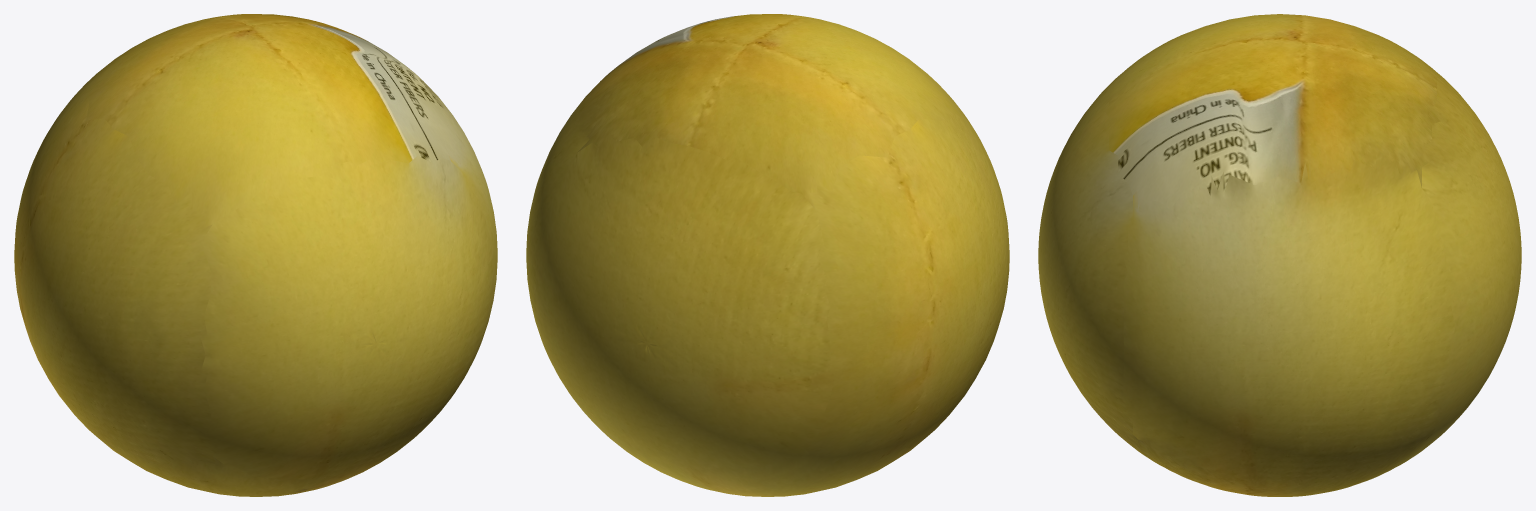
Rendered from kyjen_squeakin_eggs_plush_puppies.obj.
3 renders of one model, left to right at view 1: azimuth 30°, elevation 25°; view 2: azimuth 150°, elevation 25°; view 3: azimuth 270°, elevation 25°, orthographic.
Bounding box in the file's own units: 0.07 × 0.07 × 0.07.
Materials: 1 (1 with a texture image).
